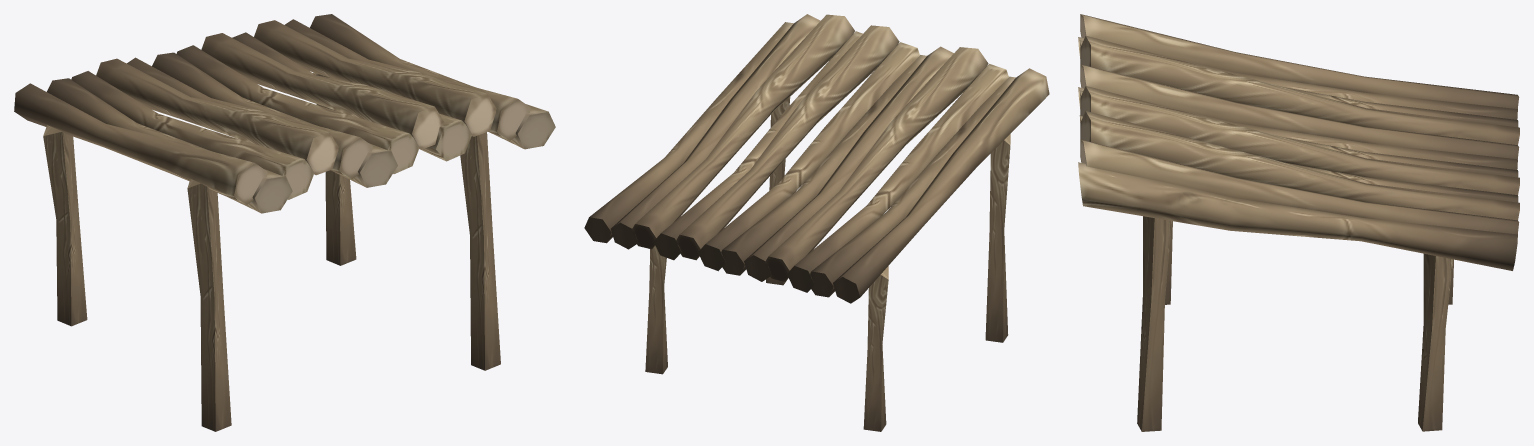
Rendered from Egypt_Village_Props_11.FBX.
3 renders of one model, left to right at view 1: azimuth 30°, elevation 25°; view 2: azimuth 150°, elevation 25°; view 3: azimuth 270°, elevation 25°, orthographic. The views are drawn at different scales.
Parts seen in each view (by area): view 1: Egypt_Village_Props_11; view 2: Egypt_Village_Props_11; view 3: Egypt_Village_Props_11.
Boxes of the visible parts, x1,y1,x2,y2 form: Egypt_Village_Props_11: [14, 14, 555, 431]; Egypt_Village_Props_11: [584, 14, 1049, 431]; Egypt_Village_Props_11: [1078, 14, 1519, 431].
Size of the model in its own units: 321 by 281 by 382.
